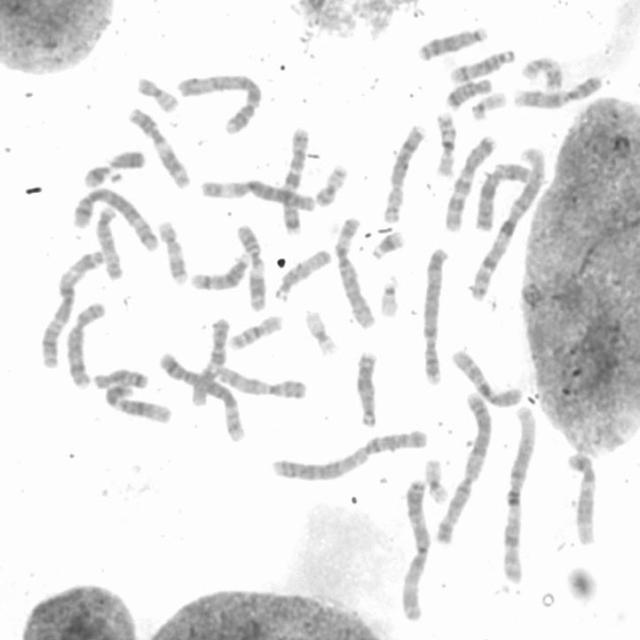A1: (466, 142, 549, 302), (498, 401, 538, 584)
A2: (430, 387, 494, 545), (266, 424, 430, 483)
A3: (36, 244, 106, 369), (395, 473, 432, 623)
B4: (174, 68, 263, 136), (418, 241, 451, 386)
B5: (155, 348, 248, 443), (68, 182, 160, 253)
C10: (448, 345, 524, 408), (186, 314, 232, 407)
C11: (124, 104, 192, 190), (233, 219, 269, 313)
C12: (563, 447, 600, 547), (100, 379, 174, 425)
C6: (330, 212, 378, 330), (198, 174, 319, 212)
C7: (441, 128, 501, 234), (277, 122, 311, 237)
C8: (379, 118, 429, 225), (60, 296, 108, 391)
C9: (213, 360, 310, 401), (510, 70, 604, 110)
D13: (415, 21, 489, 62), (351, 347, 380, 429)
D14: (187, 247, 252, 292), (447, 45, 518, 84)
D15: (270, 244, 332, 303), (92, 202, 125, 282)
E16: (225, 310, 285, 352), (431, 106, 459, 178)
E17: (154, 216, 191, 286), (518, 52, 566, 92)
E18: (441, 72, 495, 110), (90, 364, 149, 391)
F19: (301, 305, 340, 357), (420, 454, 452, 506)
F20: (132, 71, 181, 114), (312, 159, 351, 208)
G21: (367, 226, 408, 262), (79, 159, 117, 188)
G22: (467, 86, 508, 121), (375, 269, 402, 319)
X: (471, 158, 540, 232)
Y: (106, 146, 147, 170)
